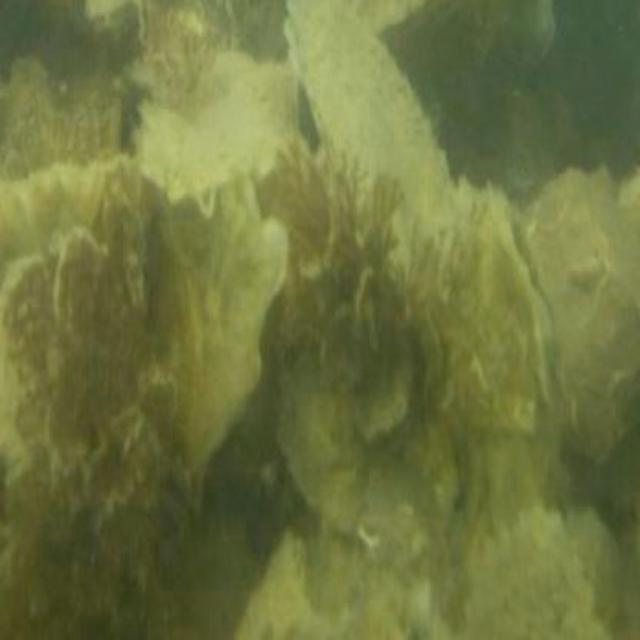Oyster-Closed: (281, 0, 456, 277), (167, 174, 294, 482), (531, 167, 638, 465), (135, 50, 291, 194), (460, 506, 606, 638), (278, 362, 362, 519)
Oyster-Open: (418, 182, 573, 444), (348, 378, 409, 461)
